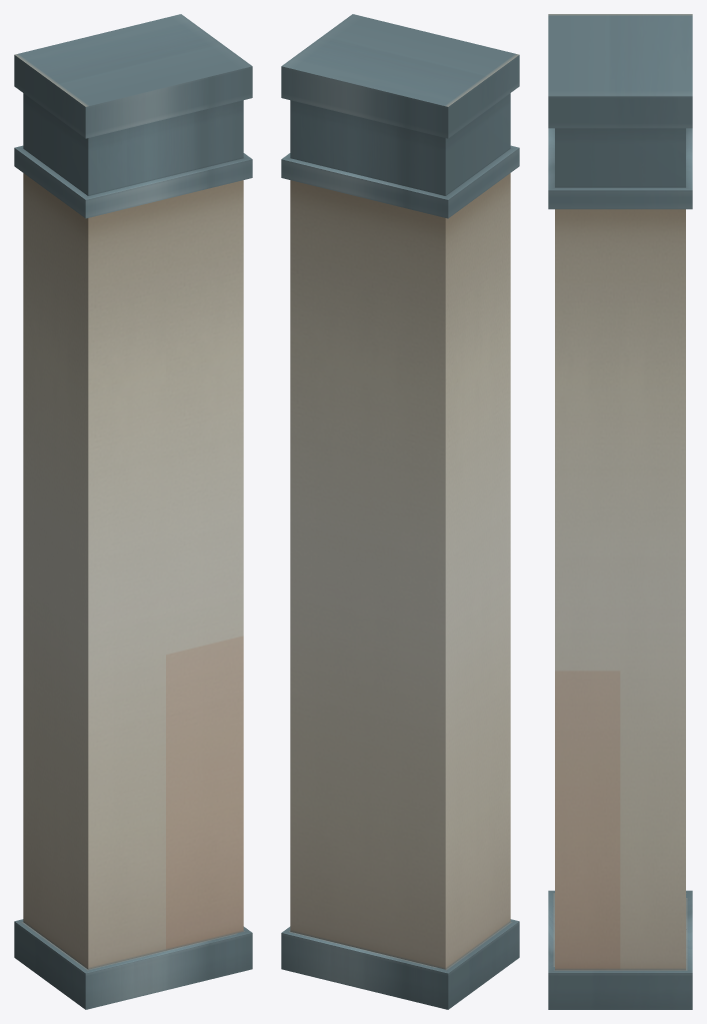
File: SHW_Pillar_01_17.fbx
3 renders of one model, left to right at view 1: azimuth 30°, elevation 25°; view 2: azimuth 150°, elevation 25°; view 3: azimuth 270°, elevation 25°, orthographic.
Visible parts, largest first — view 1: shw_pillar_01_17; view 2: shw_pillar_01_17; view 3: shw_pillar_01_17.
Part boxes in pixels (box(x1,y1,x2,y2)): shw_pillar_01_17: box(14, 14, 252, 1009); shw_pillar_01_17: box(281, 14, 519, 1009); shw_pillar_01_17: box(548, 14, 692, 1009).
Size of the model in its own units: 58 by 300 by 43.
